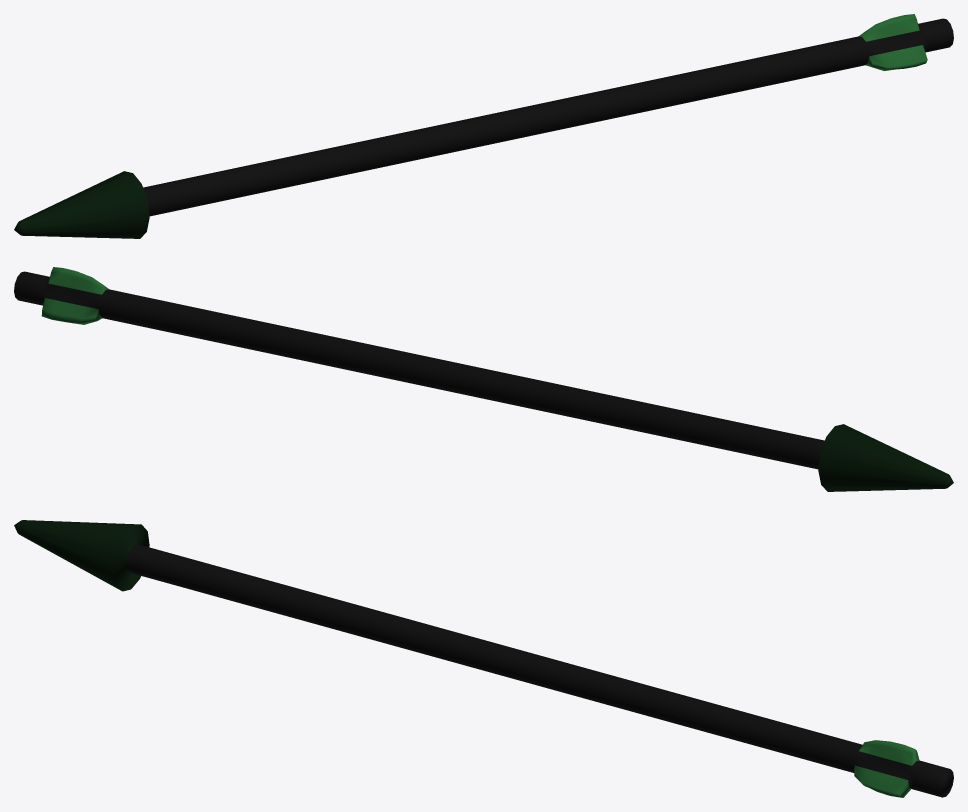
File: flecha.fbx
3 renders of one model, top to bottom at view 1: azimuth 30°, elevation 25°; view 2: azimuth 150°, elevation 25°; view 3: azimuth 330°, elevation 25°, orthographic.
Parts seen in each view (by area): view 1: pCylinder2; view 2: pCylinder2; view 3: pCylinder2.
Boxes of the visible parts, x1,y1,x2,y2 form: pCylinder2: (14,14,953,238); pCylinder2: (14,267,953,491); pCylinder2: (14,520,953,797).
Bounding box in the file's own units: 3.72 × 0.2826 × 0.2409.
